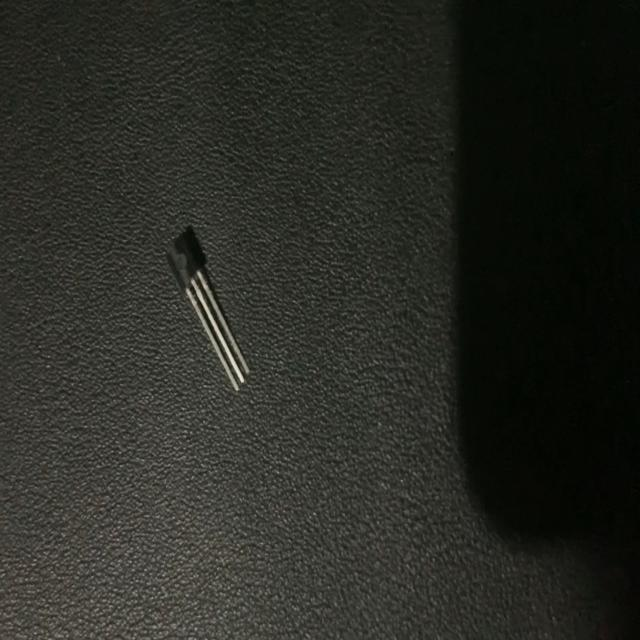BJT: (160, 218, 253, 402)
